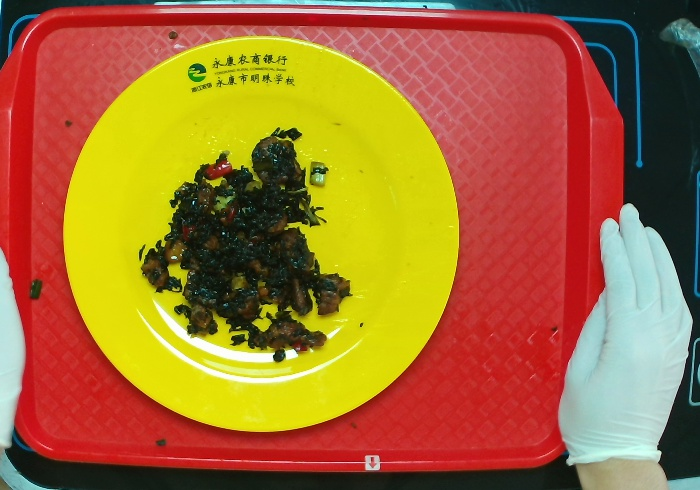YKMZ-Huang_Se_Mian_Pan: (64, 32, 460, 435)
